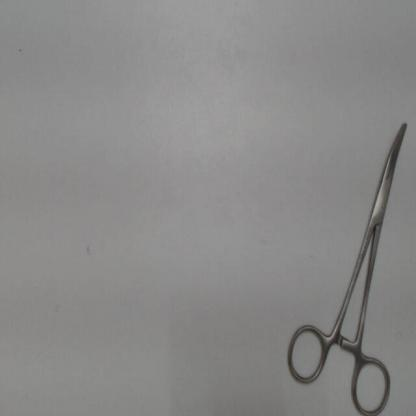Crile Artery Forceps: (282, 114, 414, 414)
